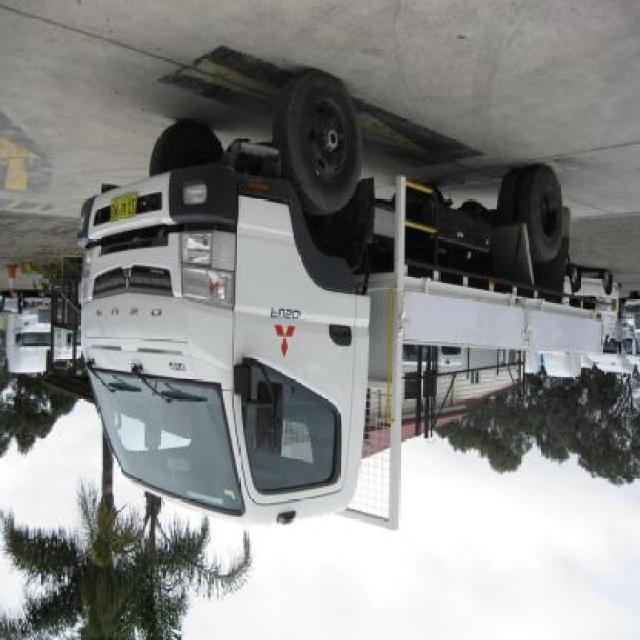truck: (76, 72, 602, 538)
